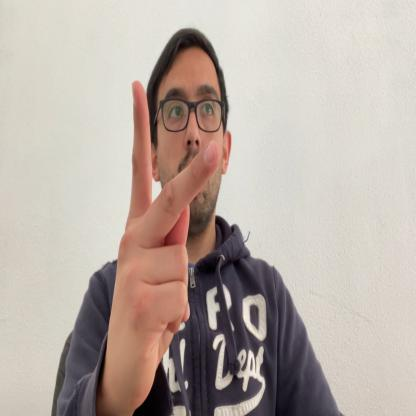P: (109, 80, 221, 403)
